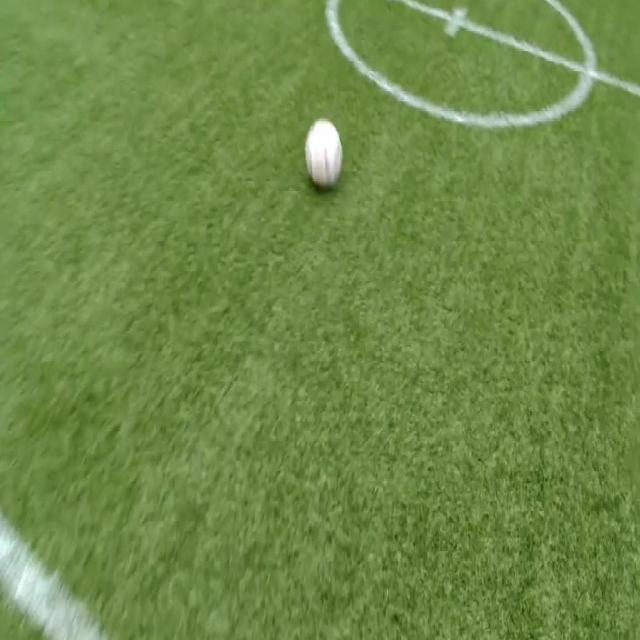ball: (306, 119, 342, 188)
